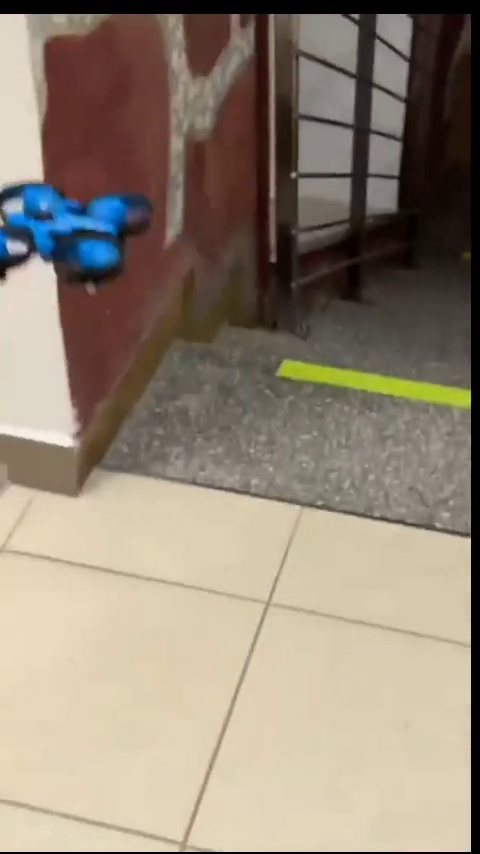drone: (0, 177, 161, 306)
